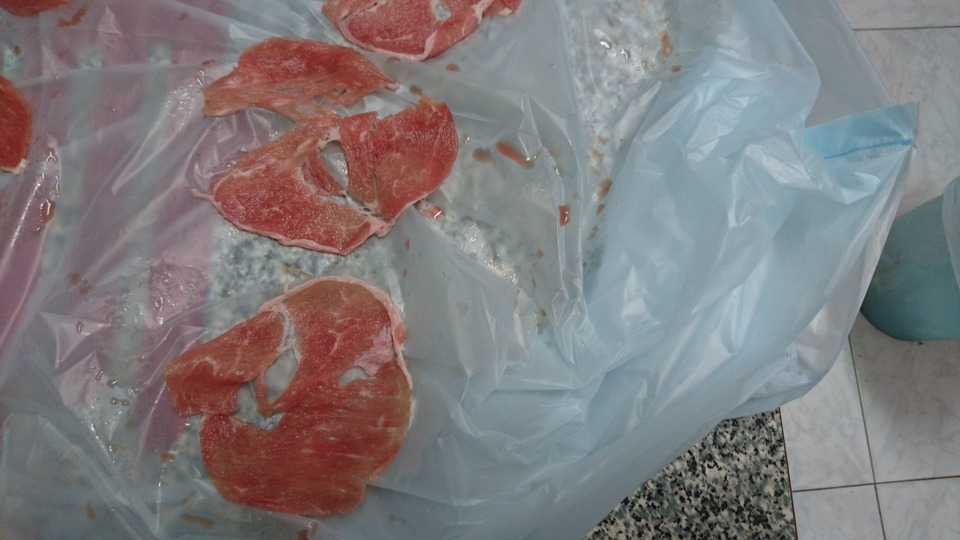restructured meat: (202, 49, 471, 262), (174, 277, 417, 509), (326, 4, 523, 58)
